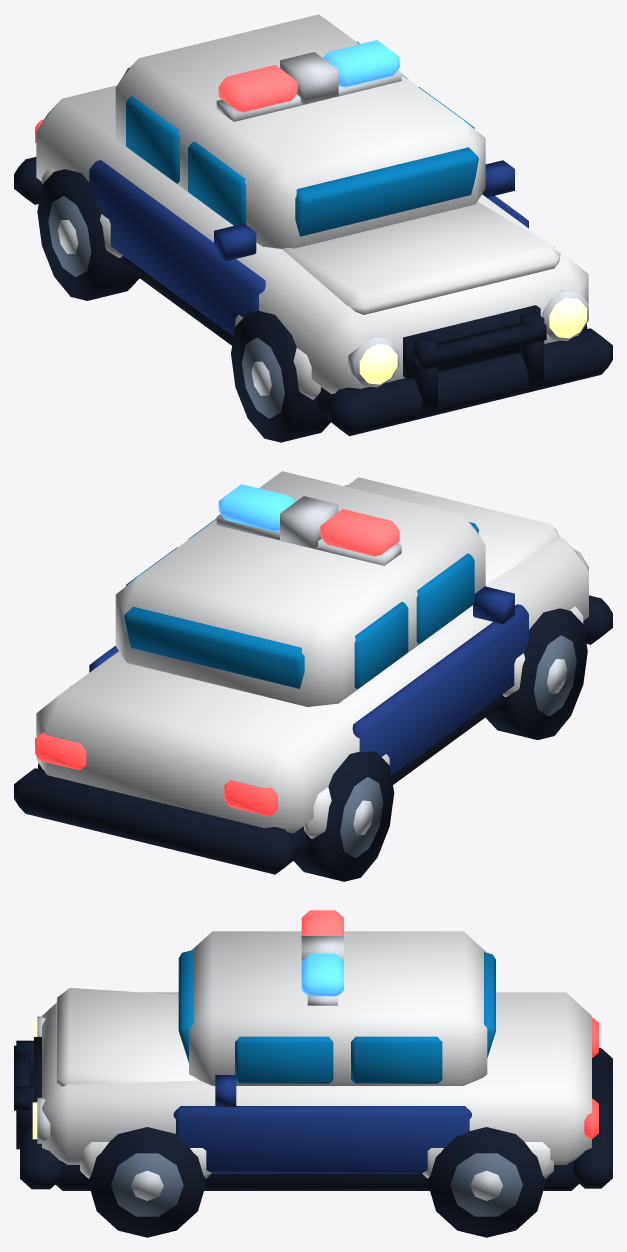
The model's file is vehicle_police.glb.
The picture shows the model from 3 angles, top to bottom: view 1: azimuth 30°, elevation 25°; view 2: azimuth 150°, elevation 25°; view 3: azimuth 270°, elevation 25°; orthographic projection. The views are drawn at different scales.
Parts seen in each view (by area): view 1: Vehicle_Police; view 2: Vehicle_Police; view 3: Vehicle_Police.
Boxes of the visible parts, x1,y1,x2,y2 form: Vehicle_Police: (14,14,612,442); Vehicle_Police: (14,471,612,881); Vehicle_Police: (14,910,612,1237).
Size of the model in its own units: 0.257 by 0.22 by 0.512.
